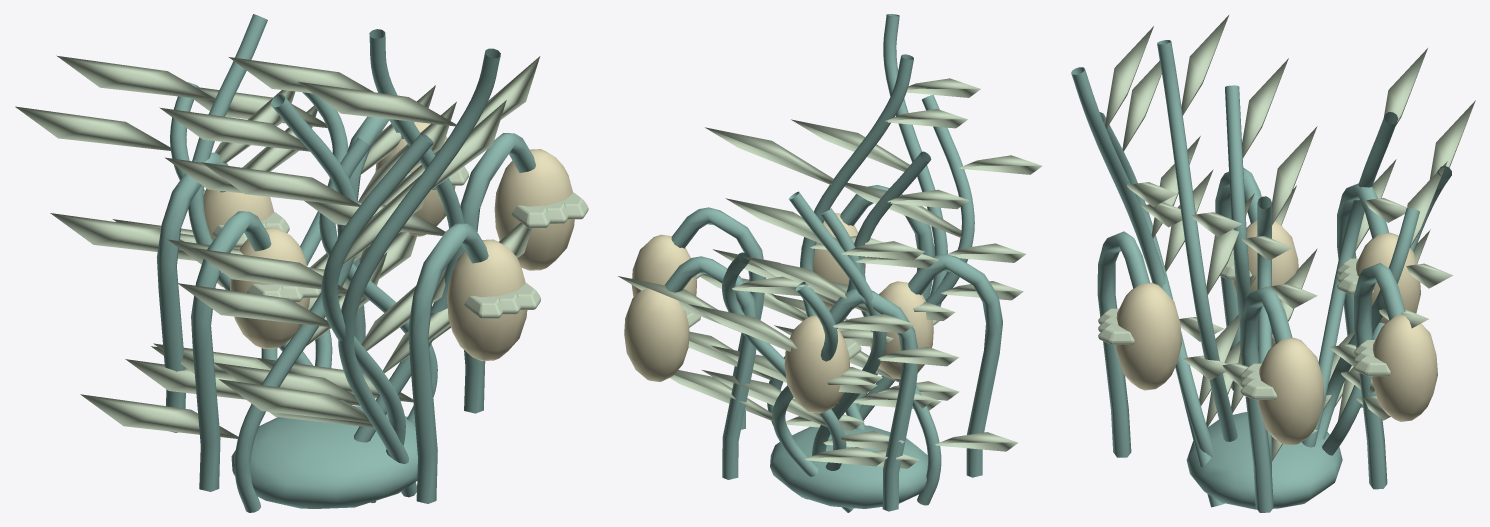
The model's file is bio_aquatic_frond_08_far.glb.
3 renders of one model, left to right at view 1: azimuth 30°, elevation 25°; view 2: azimuth 150°, elevation 25°; view 3: azimuth 270°, elevation 25°, orthographic. The views are drawn at different scales.
Parts seen in each view (by area): view 1: Holdfast, Ruffled aquatic blade.010, Ruffled aquatic blade.035, Flexible stipe.002, Ruffled aquatic blade.020, Ruffled aquatic blade.005, Ruffled aquatic blade.025, Arched fruit stem.002, Pendant spore capsule.002, Arched fruit stem.004, Flexible stipe.004, Flexible stipe.007 (+18 smaller); view 2: Holdfast, Ruffled aquatic blade.030, Pendant spore capsule.003, Ruffled aquatic blade.005, Arched fruit stem.004, Ruffled aquatic blade.025, Pendant spore capsule.001, Ruffled aquatic blade.020, Ruffled aquatic blade.010, Arched fruit stem.001, Arched fruit stem.003, Ruffled aquatic blade.015 (+15 smaller); view 3: Holdfast, Flexible stipe.005, Pendant spore capsule.002, Pendant spore capsule, Pendant spore capsule.003, Arched fruit stem.002, Arched fruit stem, Ruffled aquatic blade.010, Arched fruit stem.003, Ruffled aquatic blade.035, Flexible stipe.002, Ruffled aquatic blade.025 (+19 smaller).
Boxes of the visible parts, x1,y1,x2,y2 form: Holdfast: (231,406,417,508); Ruffled aquatic blade.010: (189,81,506,423); Ruffled aquatic blade.035: (177,162,450,427); Flexible stipe.002: (338,48,500,497); Ruffled aquatic blade.020: (80,101,456,438); Ruffled aquatic blade.005: (50,55,362,379); Ruffled aquatic blade.025: (214,56,540,405); Arched fruit stem.002: (408,223,488,503); Pendant spore capsule.002: (447,239,527,361); Arched fruit stem.004: (191,211,271,491); Flexible stipe.004: (234,94,357,512); Flexible stipe.007: (321,133,433,503); Holdfast: (770,425,927,508); Ruffled aquatic blade.030: (670,304,914,466); Pendant spore capsule.003: (624,284,689,381); Ruffled aquatic blade.005: (711,241,958,449); Arched fruit stem.004: (908,254,1002,477); Ruffled aquatic blade.025: (700,109,967,408); Pendant spore capsule.001: (784,315,849,413); Ruffled aquatic blade.020: (725,189,1017,451); Ruffled aquatic blade.010: (791,78,1025,400); Arched fruit stem.001: (829,289,918,511); Arched fruit stem.003: (665,256,757,479); Ruffled aquatic blade.015: (618,276,919,468); Holdfast: (1186,412,1342,509); Flexible stipe.005: (1157,40,1237,441); Pendant spore capsule.002: (1115,282,1181,390); Pendant spore capsule: (1257,338,1324,445); Pendant spore capsule.003: (1371,315,1437,421); Arched fruit stem.002: (1097,231,1149,457); Arched fruit stem: (1240,286,1292,512); Ruffled aquatic blade.010: (1105,26,1239,405); Arched fruit stem.003: (1354,263,1405,489); Ruffled aquatic blade.035: (1122,60,1240,427); Flexible stipe.002: (1071,67,1224,507); Ruffled aquatic blade.025: (1181,15,1254,412).
Size of the model in its own units: 1.89 by 1.89 by 1.56.
